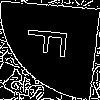F: (25, 25, 78, 61)
